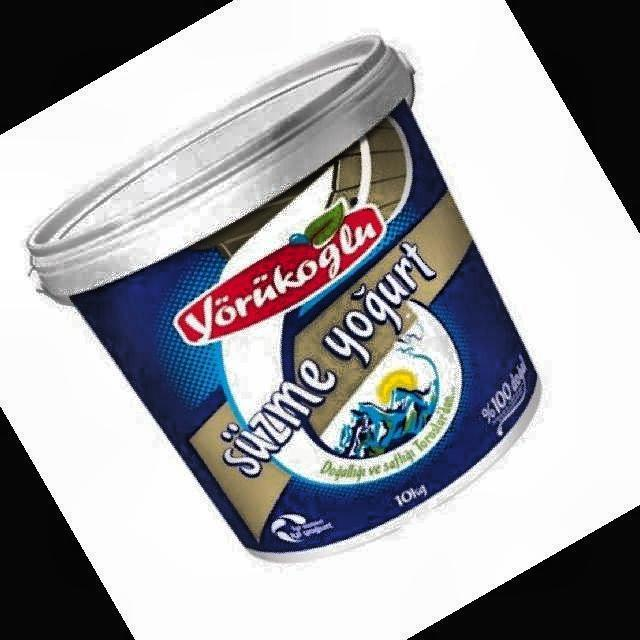plastic: (29, 38, 540, 558)
